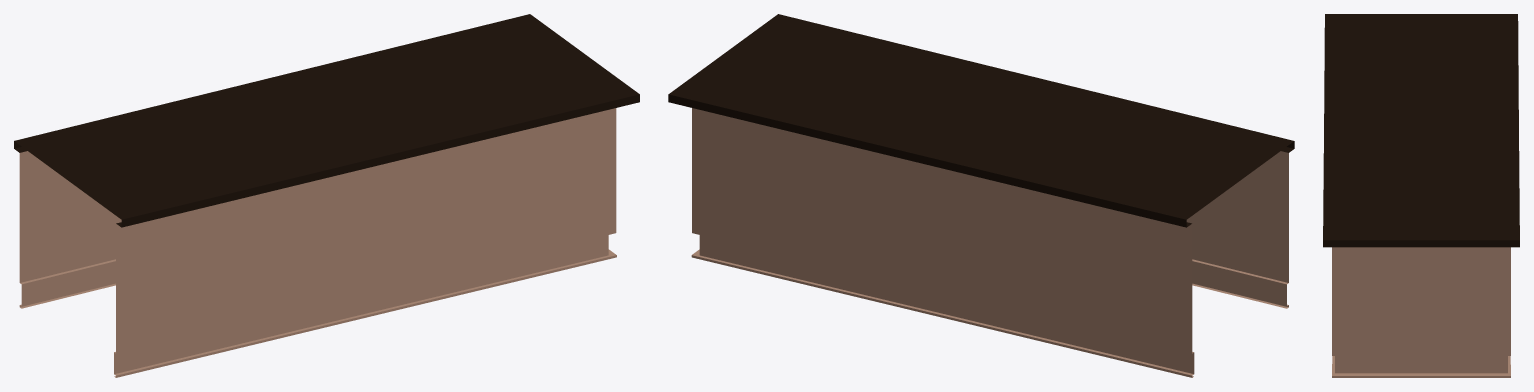
The model's file is SM_counter_02.fbx.
3 renders of one model, left to right at view 1: azimuth 30°, elevation 25°; view 2: azimuth 150°, elevation 25°; view 3: azimuth 270°, elevation 25°, orthographic. The views are drawn at different scales.
Visible parts, largest first — view 1: counter_02; view 2: counter_02; view 3: counter_02.
Boxes of the visible parts, x1=… form: counter_02: x1=14, y1=14, x2=639, y2=377; counter_02: x1=668, y1=14, x2=1294, y2=377; counter_02: x1=1323, y1=14, x2=1519, y2=377.
Size of the model in its own units: 332 by 99.47 by 122.
